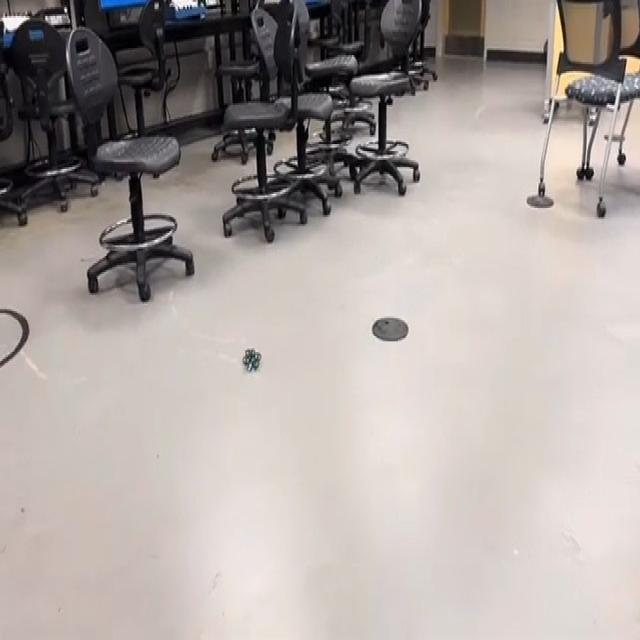drone: (234, 336, 270, 384)
